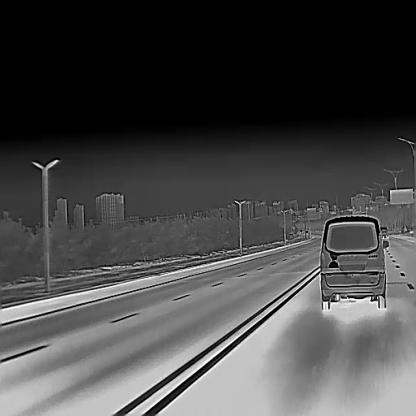car: (318, 214, 390, 310), (379, 225, 388, 238)
